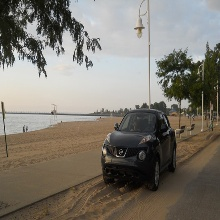no damage: (100, 107, 180, 192)
